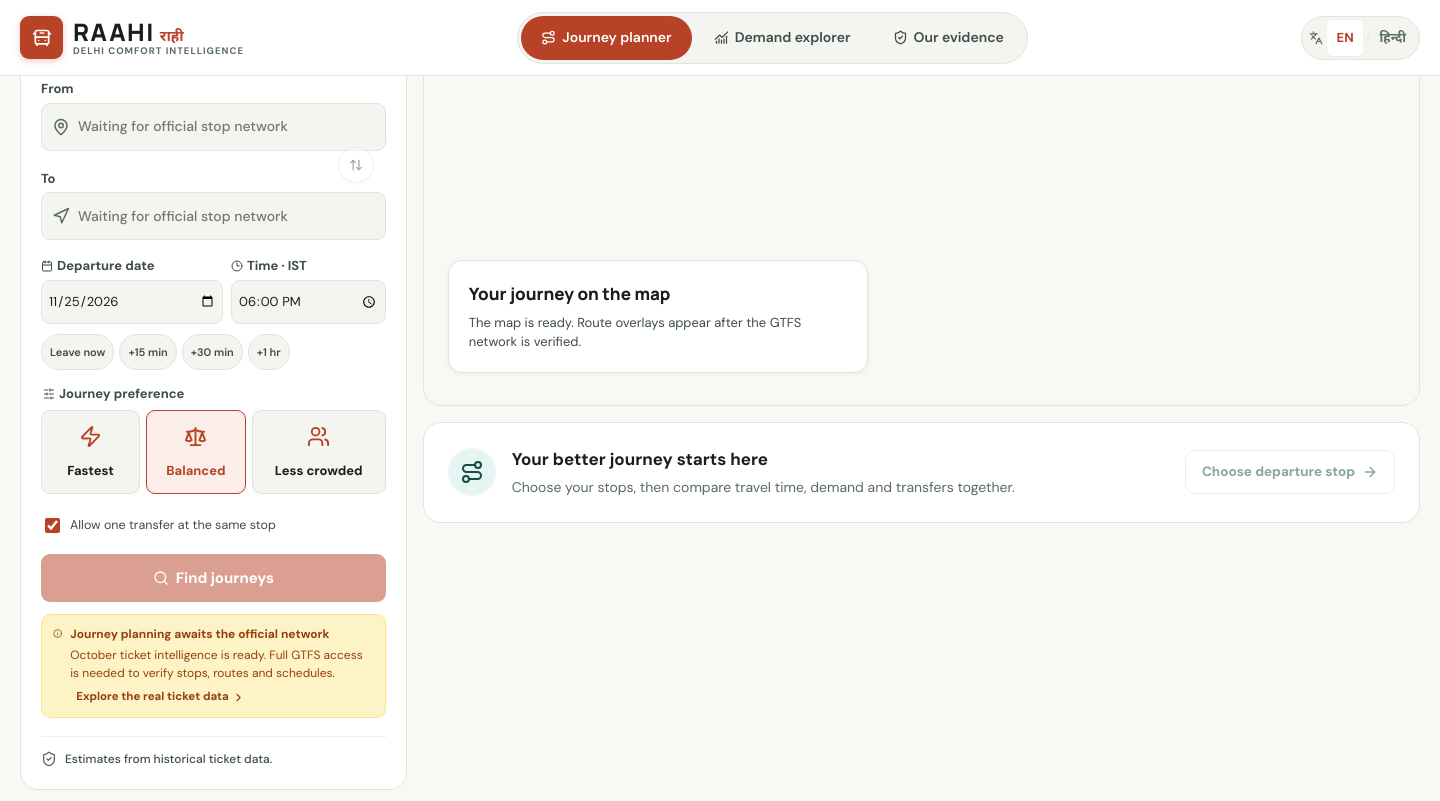
Scenario: actual user states › does not fabricate journeys when GTFS is missing and opens real-data explorer
(page scrolled)
Expected: the button "Find journeys" is disabled, left=41, top=554, right=386, bottom=602
Expected: the text "Journey planning awaits the official network" is shown, left=70, top=626, right=329, bottom=642
Click the button "Explore the real ticket data": (160,697) left=70, top=687, right=251, bottom=707
(page scrolled)
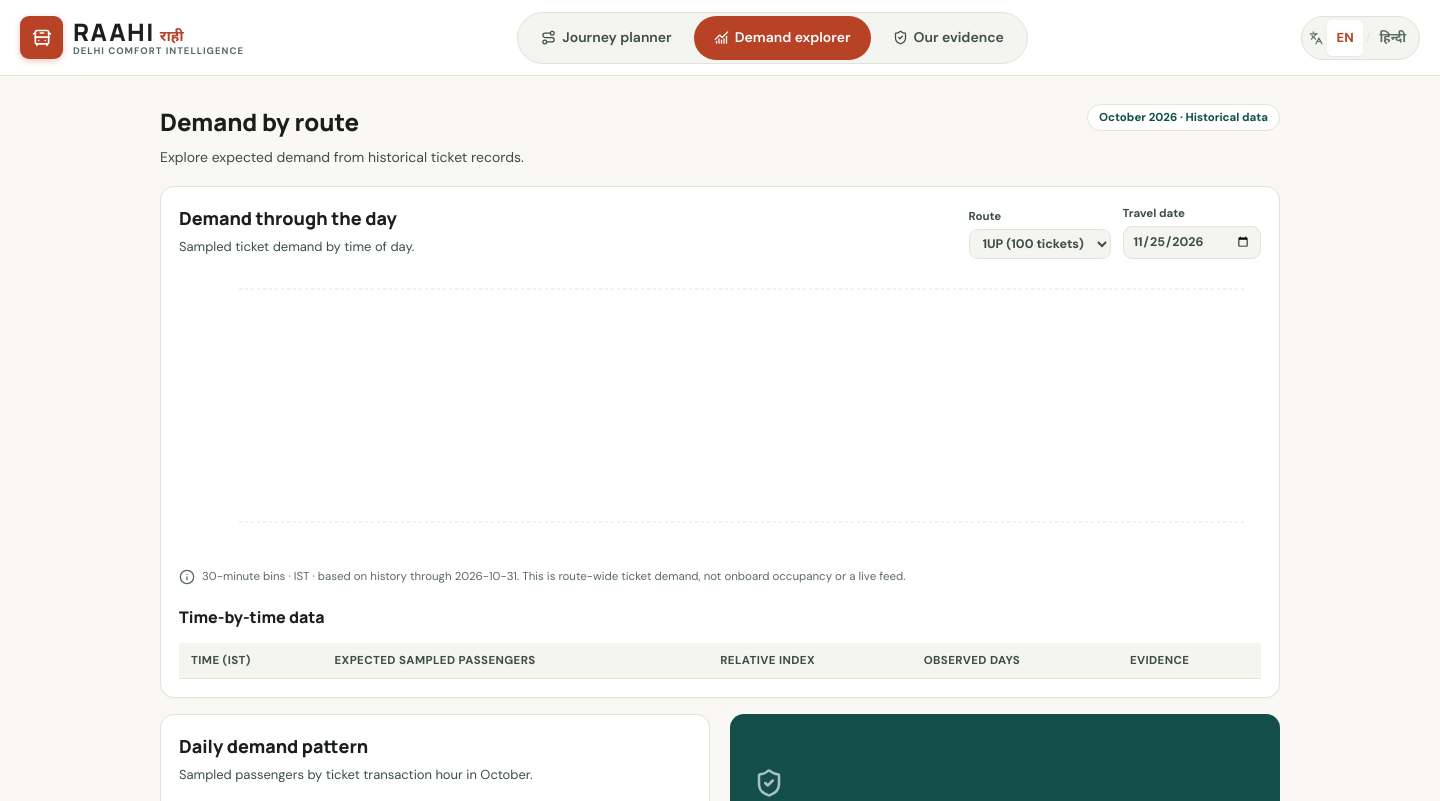
Expected: the heading "Demand by route" is shown, left=160, top=105, right=359, bottom=138
